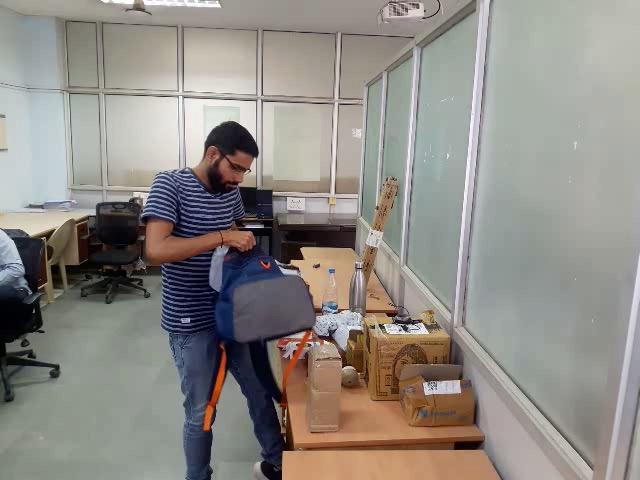shoplifting: (199, 228, 326, 357)
